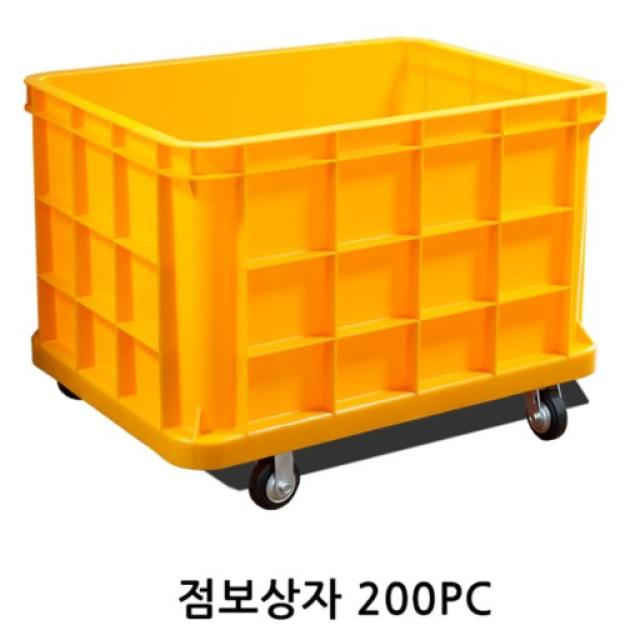basket: (10, 23, 633, 484)
